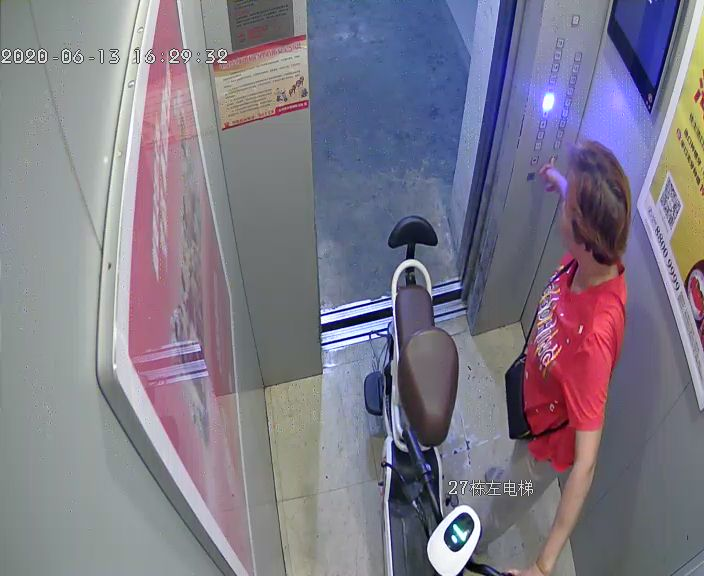Electric-bicycle: (377, 219, 485, 576)
